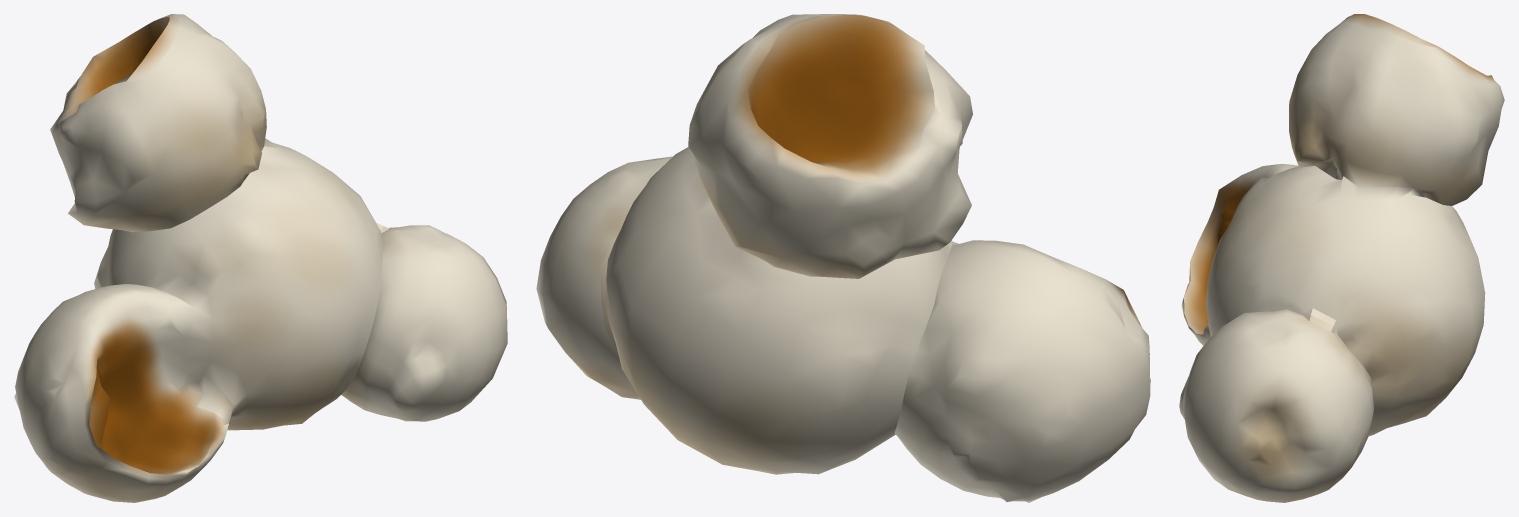
Rendered from PopcornBuschV1.fbx.
The picture shows the model from 3 angles, left to right: view 1: azimuth 30°, elevation 25°; view 2: azimuth 150°, elevation 25°; view 3: azimuth 270°, elevation 25°; orthographic projection. The views are drawn at different scales.
Visible parts, largest first — view 1: Popcorn_V1; view 2: Popcorn_V1; view 3: Popcorn_V1.
Boxes of the visible parts, box(x1,y1,x2,y2) form: Popcorn_V1: box(14, 14, 507, 502); Popcorn_V1: box(536, 14, 1150, 502); Popcorn_V1: box(1179, 14, 1504, 502).
Size of the model in its own units: 2.72 by 2.27 by 1.71.
